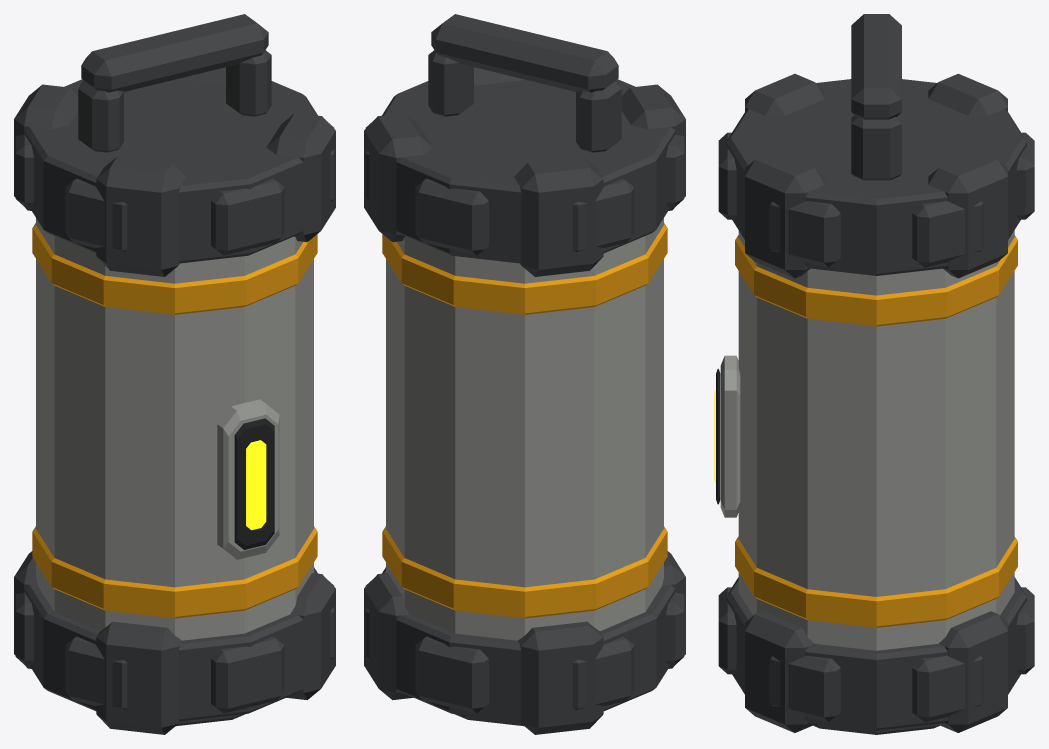
The model's file is 04_booster_fuel_cell.fbx.
3 renders of one model, left to right at view 1: azimuth 30°, elevation 25°; view 2: azimuth 150°, elevation 25°; view 3: azimuth 270°, elevation 25°, orthographic.
Parts seen in each view (by area): view 1: 04_booster_fuel_cell; view 2: 04_booster_fuel_cell; view 3: 04_booster_fuel_cell.
Boxes of the visible parts, x1,y1,x2,y2 form: 04_booster_fuel_cell: [14, 14, 335, 734]; 04_booster_fuel_cell: [364, 14, 685, 734]; 04_booster_fuel_cell: [714, 14, 1034, 734].
Size of the model in its own units: 8.07 by 18.6 by 8.49.
